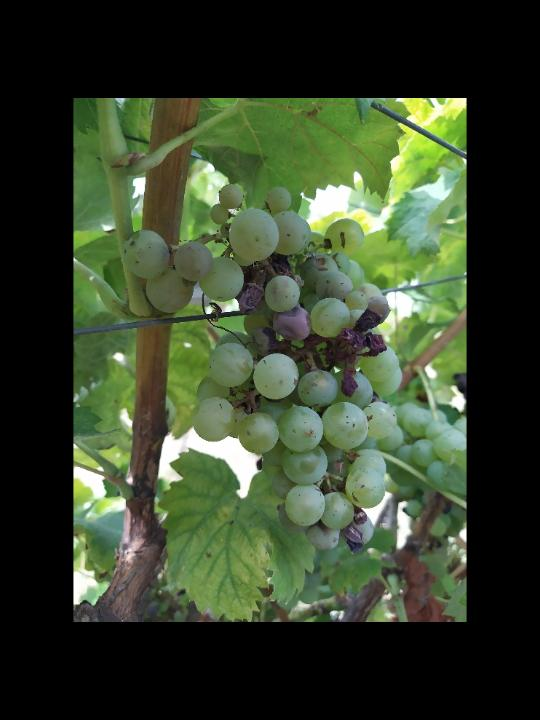grape: (120, 182, 405, 557)
